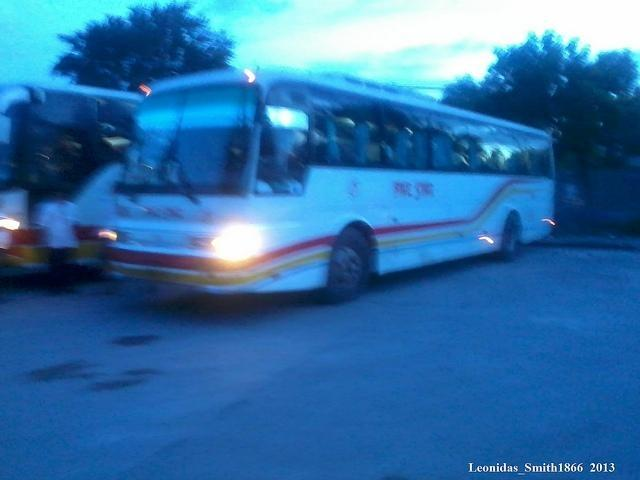bus: (91, 71, 560, 308), (3, 81, 148, 272)
